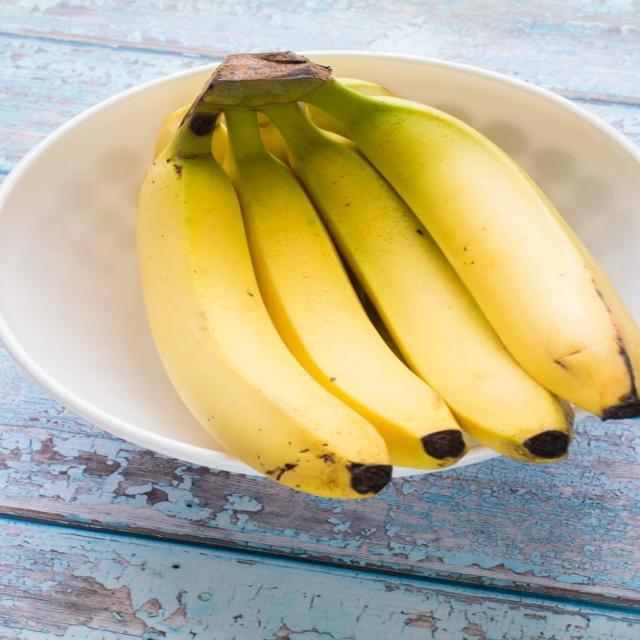unpeal banana: (303, 80, 639, 418), (266, 105, 571, 462), (138, 103, 391, 497), (225, 108, 466, 468), (154, 105, 190, 157), (336, 78, 394, 95)
